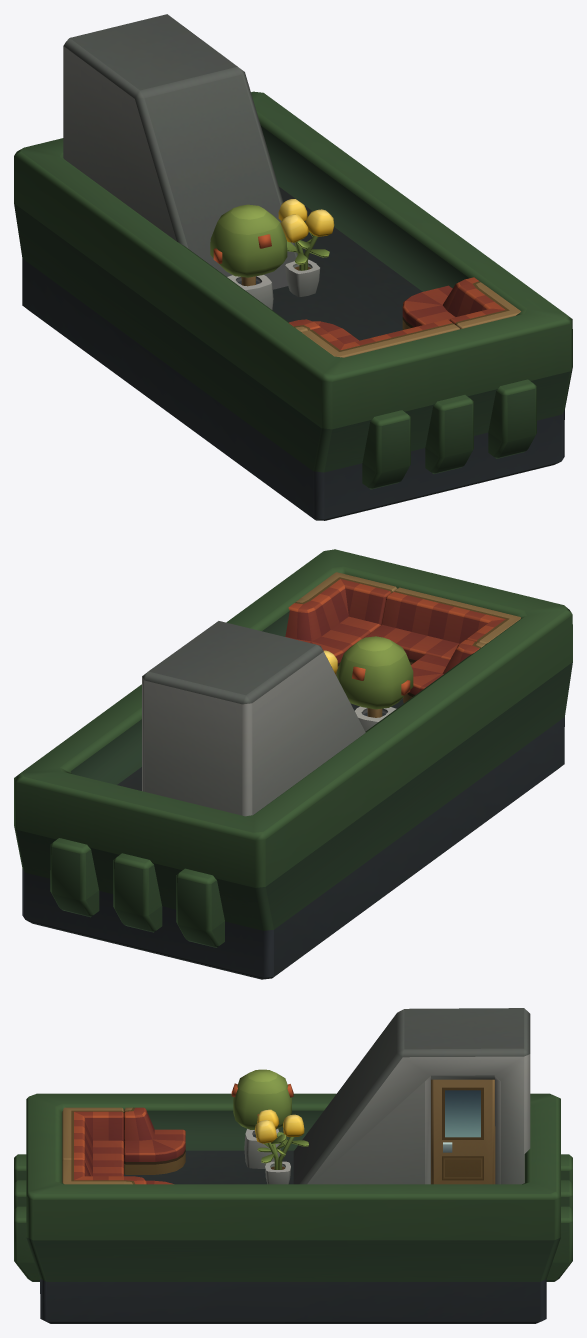
The model's file is appartment_type1_roof_type2_x2_flat_brown_deco.fbx.
3 views of the same model, one above another, from view 1: azimuth 30°, elevation 25°; view 2: azimuth 150°, elevation 25°; view 3: azimuth 270°, elevation 25° (orthographic). The views are drawn at different scales.
Parts seen in each view (by area): view 1: appartment_type1_roof_type2_x2_flat_brown_deco; view 2: appartment_type1_roof_type2_x2_flat_brown_deco; view 3: appartment_type1_roof_type2_x2_flat_brown_deco, door_wood_rooftop_doorway.
Part boxes in pixels (box(x1,y1,x2,y2)): appartment_type1_roof_type2_x2_flat_brown_deco: box(14, 14, 572, 520); appartment_type1_roof_type2_x2_flat_brown_deco: box(14, 549, 572, 979); appartment_type1_roof_type2_x2_flat_brown_deco: box(14, 1008, 572, 1323); door_wood_rooftop_doorway: box(431, 1079, 495, 1184).
Bounding box in the file's own units: 400 × 410 × 907.
